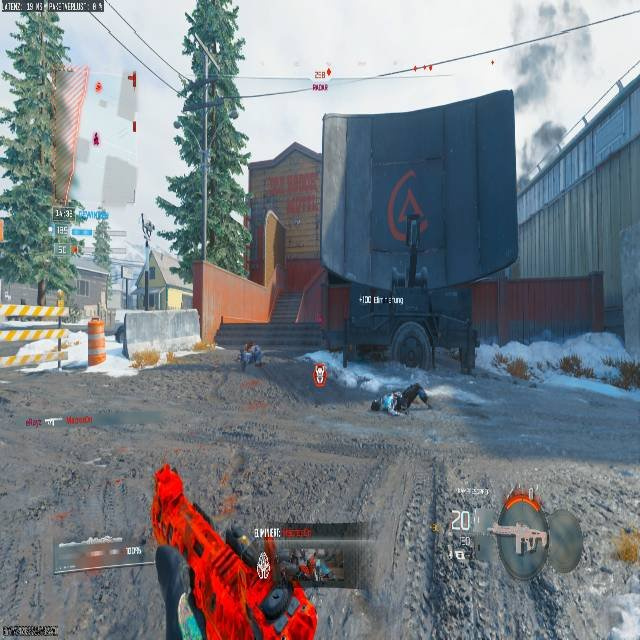head: (370, 400, 381, 411)
player: (237, 341, 266, 371)
